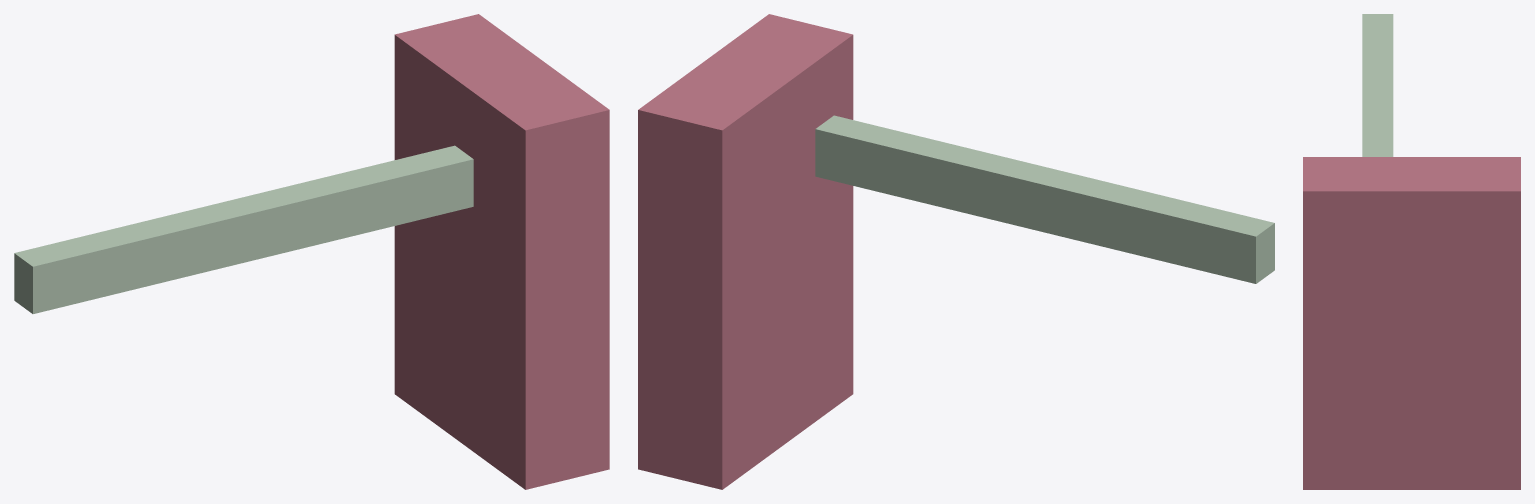
Rendered from 199507_pred.glb.
3 renders of one model, left to right at view 1: azimuth 30°, elevation 25°; view 2: azimuth 150°, elevation 25°; view 3: azimuth 270°, elevation 25°, orthographic. The views are drawn at different scales.
Parts seen in each view (by area): view 1: world; view 2: world; view 3: world.
Part boxes in pixels (bbox=[...]): world: bbox=[14, 14, 609, 489]; world: bbox=[638, 14, 1274, 489]; world: bbox=[1303, 14, 1520, 489].
Bounding box in the file's own units: 8.35 × 5.3 × 3.5.
